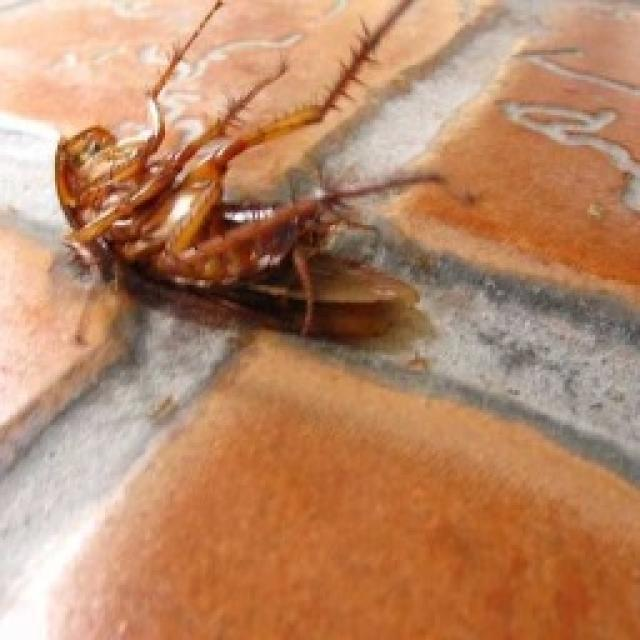cockroach: (8, 95, 434, 357)
